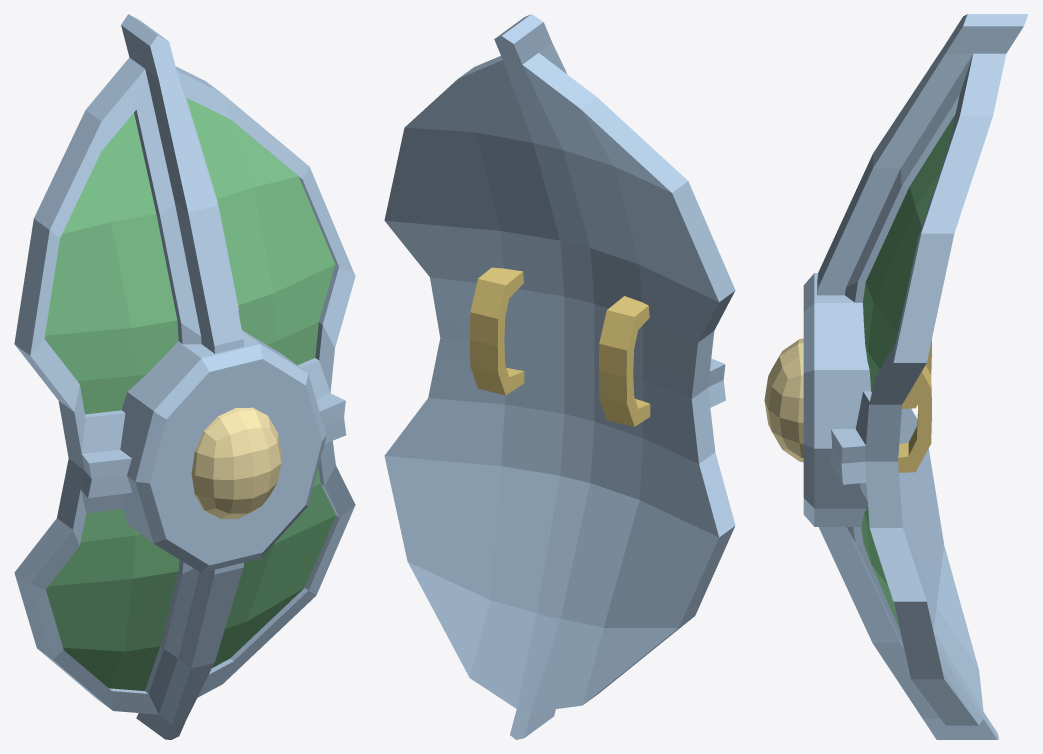
The model's file is q_celtic.gltf.
The picture shows the model from 3 angles, left to right: view 1: azimuth 30°, elevation 25°; view 2: azimuth 150°, elevation 25°; view 3: azimuth 270°, elevation 25°; orthographic projection. The views are drawn at different scales.
Parts seen in each view (by area): view 1: Shield_Celtic_Golden; view 2: Shield_Celtic_Golden; view 3: Shield_Celtic_Golden.
Boxes of the visible parts, x1=… form: Shield_Celtic_Golden: x1=14, y1=14, x2=355, y2=739; Shield_Celtic_Golden: x1=384, y1=14, x2=735, y2=739; Shield_Celtic_Golden: x1=764, y1=14, x2=1028, y2=739.
Size of the model in its own units: 0.3236 by 0.66 by 0.2178.
